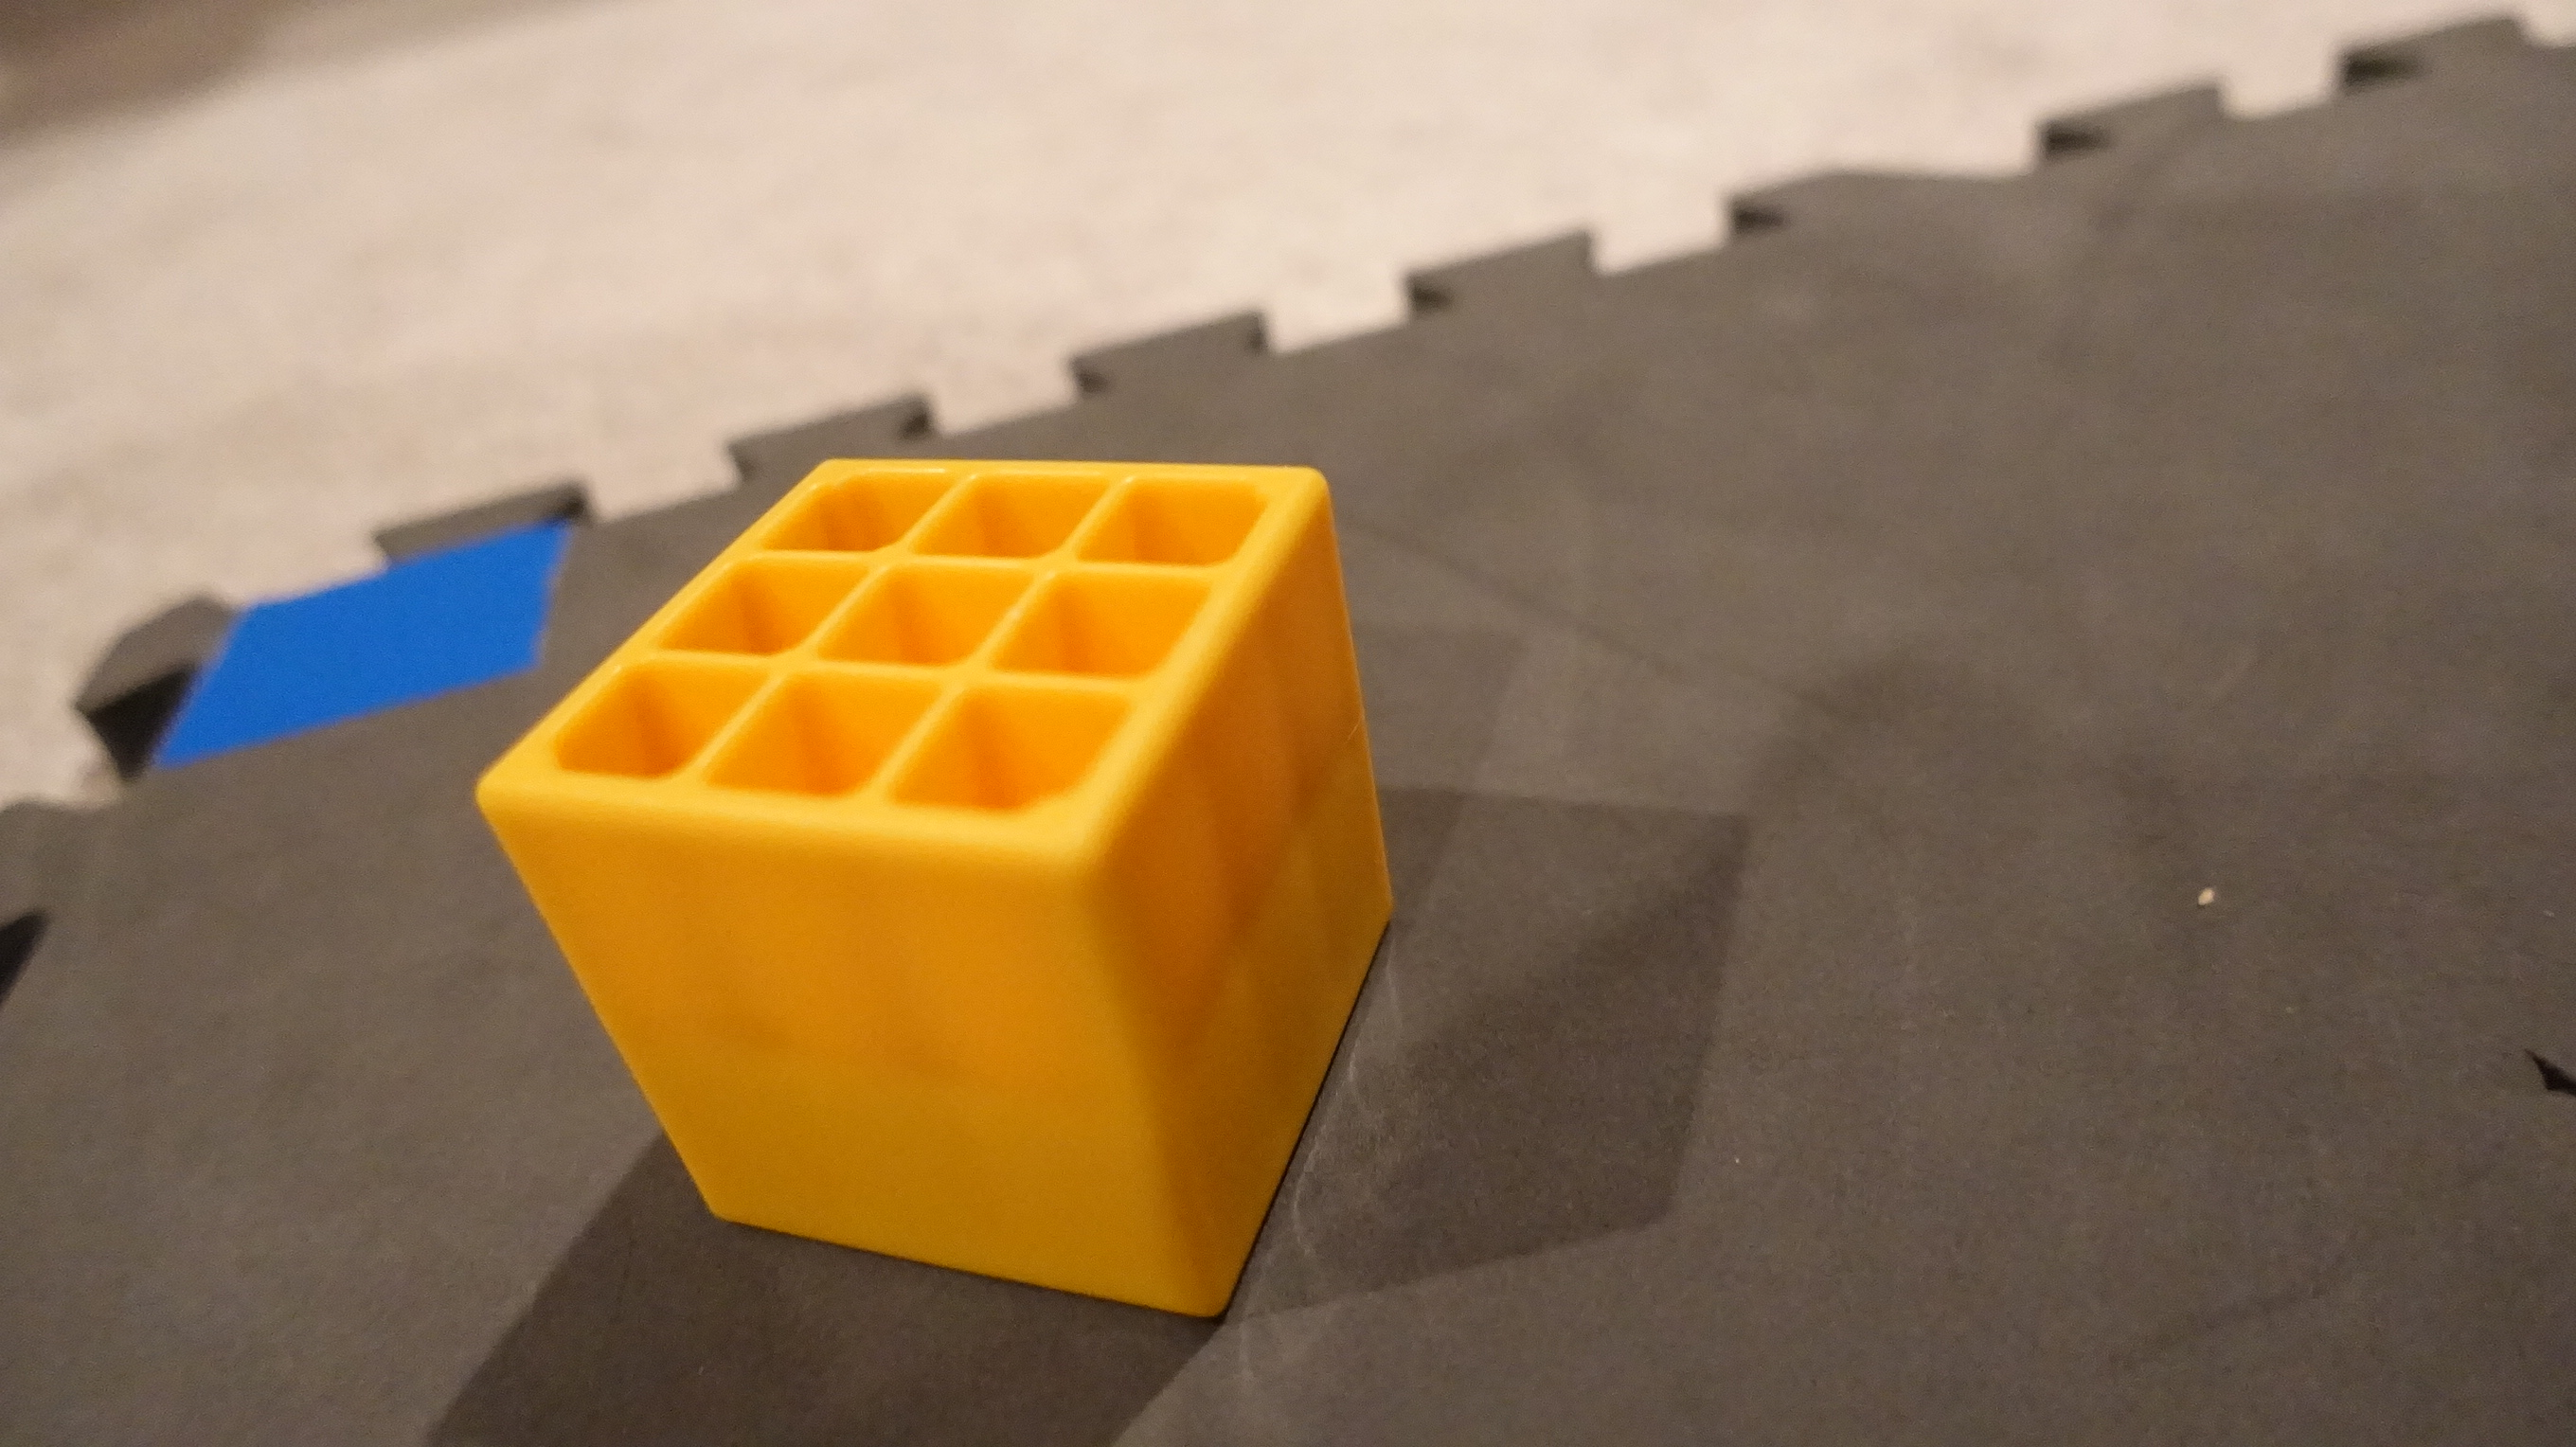gold: (458, 386, 1401, 1337)
